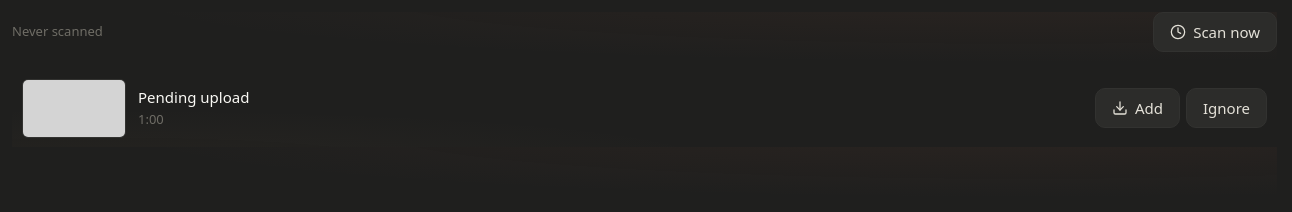
NewTab › shell callbacks › a refused download tells the shell nothing
Expected: the link "Pending upload" is shown, [138,87,249,107]
Click the button "Add" at (1137, 108), box [1095,88,1180,128]
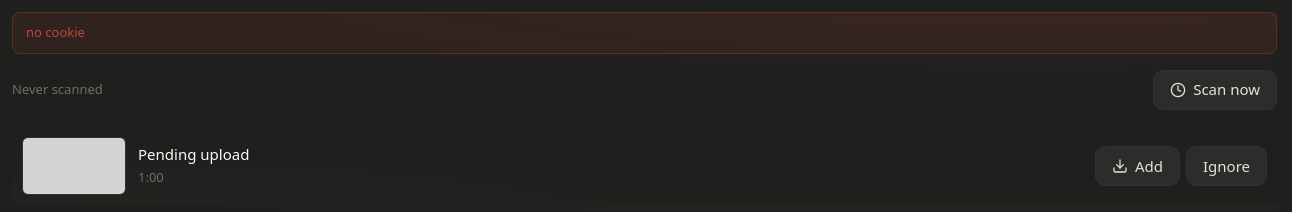
Expected: the text "no cookie" is shown, [12,12,1277,54]
